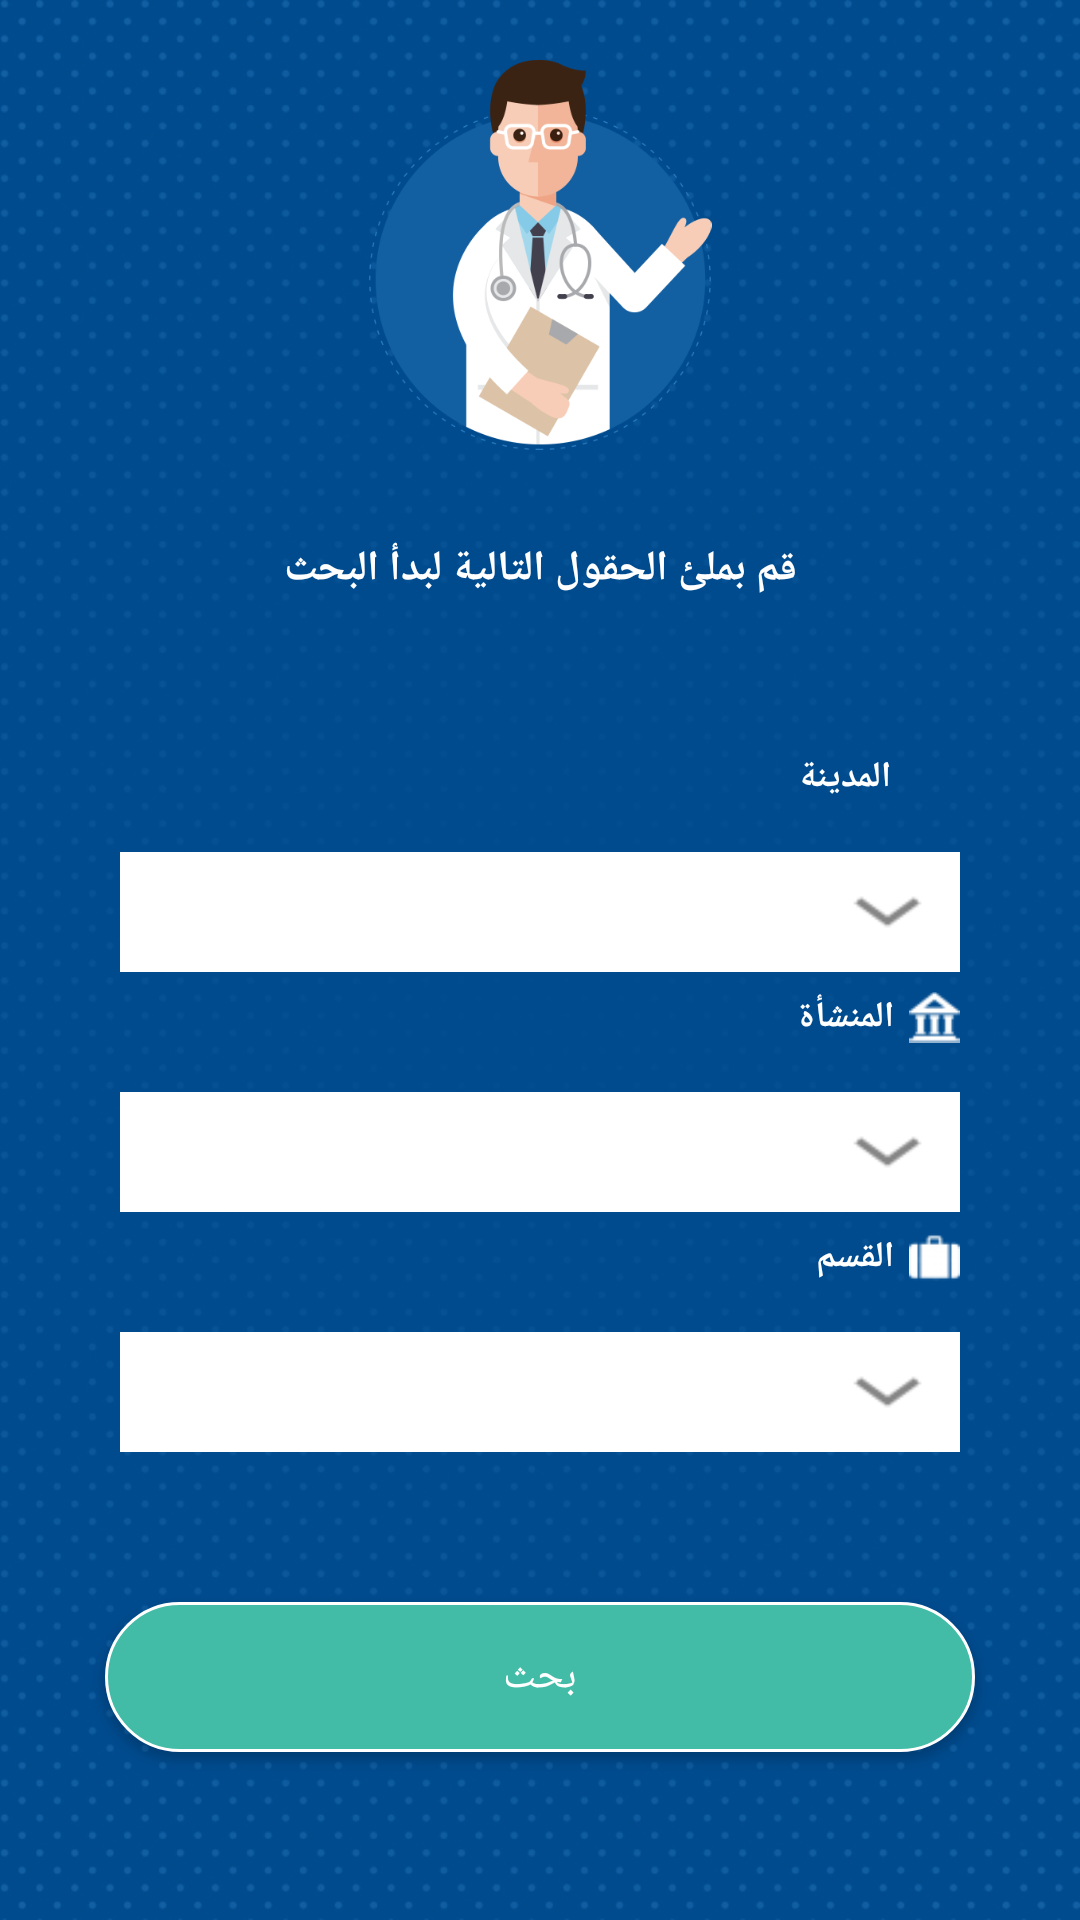

Where icons sit on this 1080*1920 app screen, as Rect(x1, y1, x2, y2):
dept: Rect(909, 1235, 960, 1279)
place: Rect(909, 992, 960, 1043)
